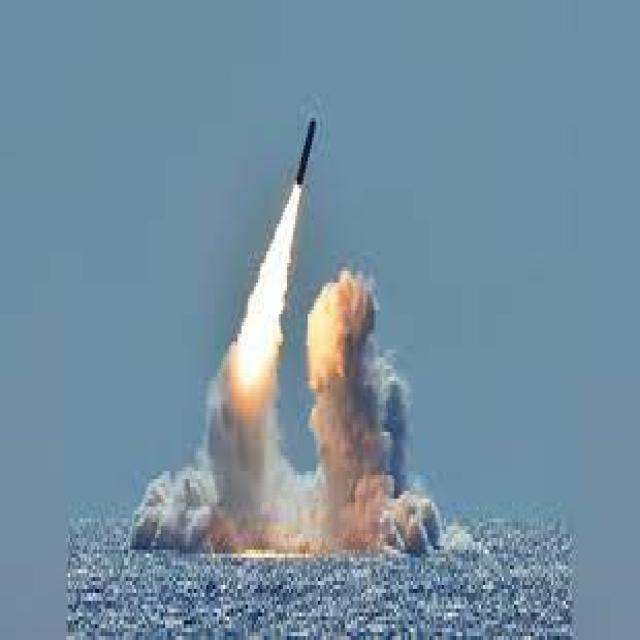missile: (294, 117, 320, 191)
